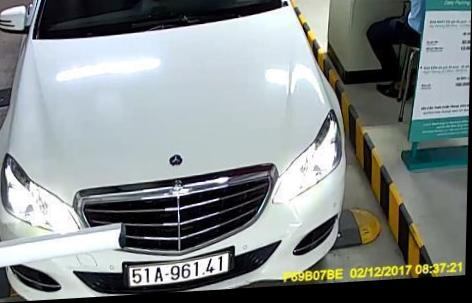License_Plate: (122, 252, 228, 286)
